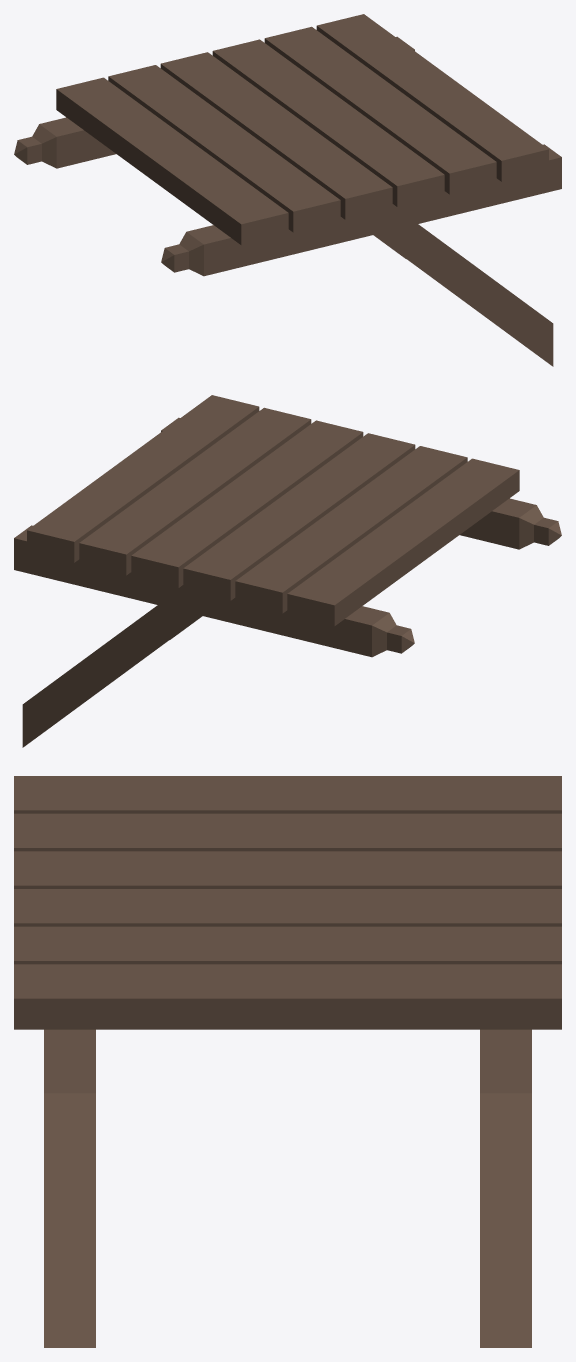
File: DeliveryPoint_Ledge.fbx
The picture shows the model from 3 angles, top to bottom: view 1: azimuth 30°, elevation 25°; view 2: azimuth 150°, elevation 25°; view 3: azimuth 270°, elevation 25°; orthographic projection. The views are drawn at different scales.
Visible parts, largest first — view 1: DeliveryLedge; view 2: DeliveryLedge; view 3: DeliveryLedge.
Part boxes in pixels (box(x1,y1,x2,y2)): DeliveryLedge: box(14, 14, 561, 366); DeliveryLedge: box(14, 395, 561, 747); DeliveryLedge: box(14, 776, 561, 1347).
Size of the model in its own units: 317 by 176 by 259.
